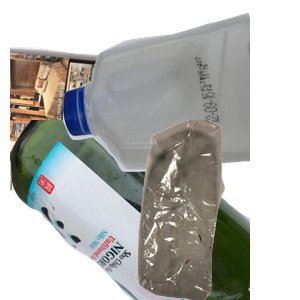glass: (10, 120, 250, 300)
paper: (10, 44, 232, 224)
plastic: (60, 10, 300, 175)
trash: (114, 120, 300, 300)
